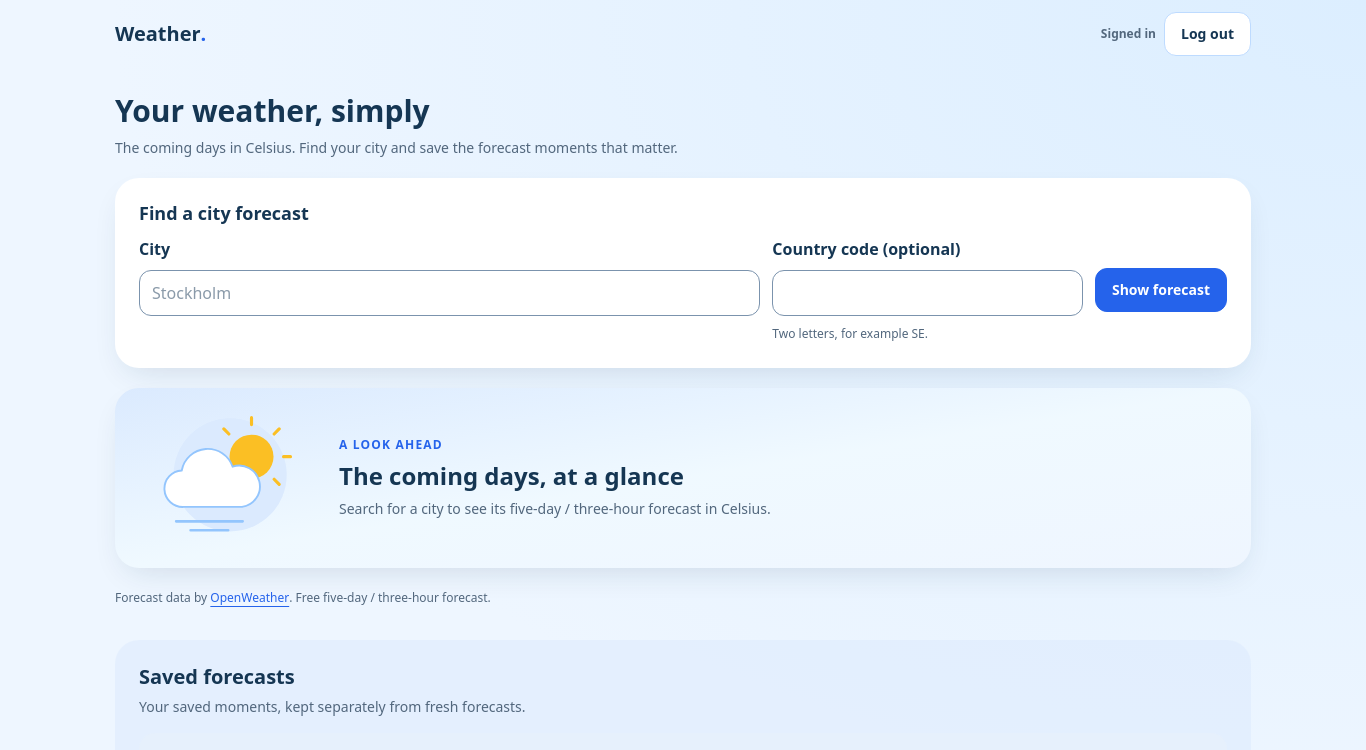
Test case: weather and authentication journeys › does not claim logout success after failure; retries revocation then bootstraps before further mutations
Click the button "Log out": x=1208, y=34 [1164, 12, 1251, 56]
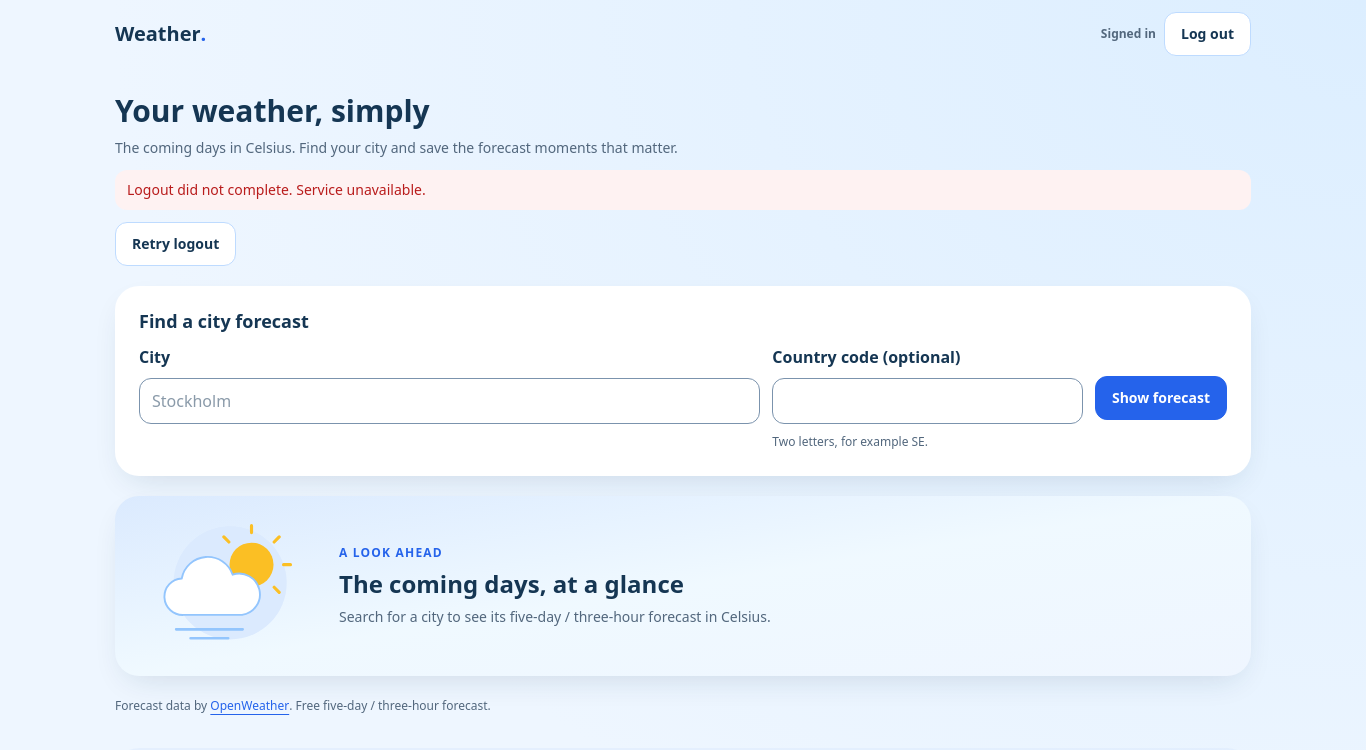
Expected: the text "Signed in" is shown, [1101, 26, 1156, 42]
Expected: the text "Logout did not complete. Service unavailable." is shown, [127, 180, 426, 198]
Click the button "Retry logout": x=176, y=244 [115, 222, 236, 266]
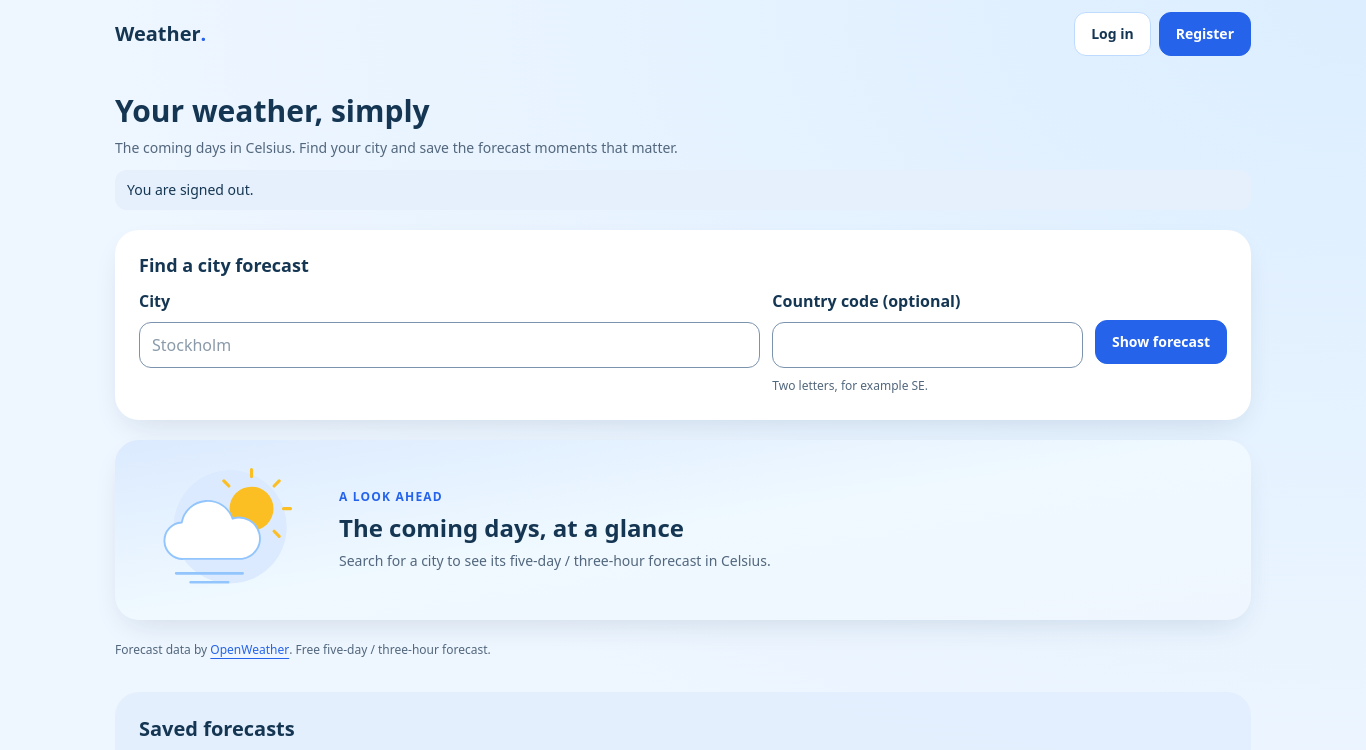
Expected: the text "You are signed out." is shown, [115, 170, 1251, 210]
Expected: the link "Register" is shown, [1159, 12, 1251, 56]
